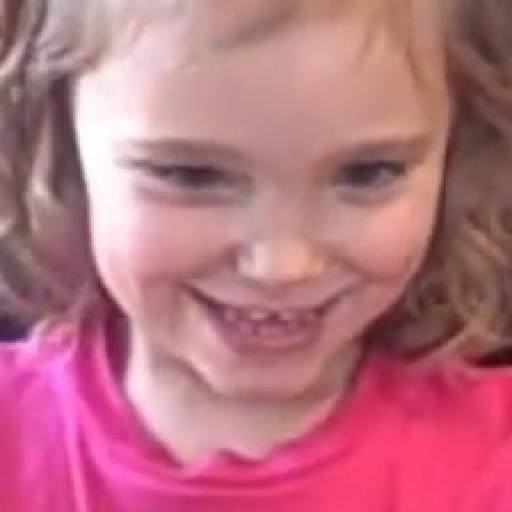Autism: (8, 0, 512, 422)
